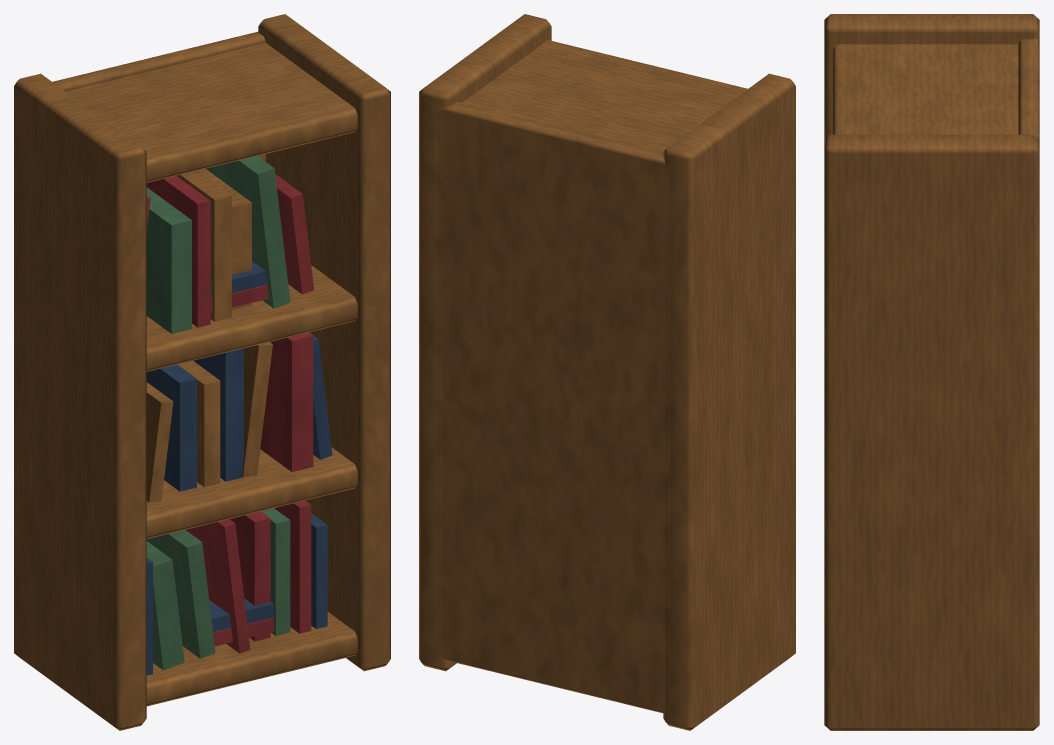
Rendered from Furn_DecorBookshelf.fbx.
3 renders of one model, left to right at view 1: azimuth 30°, elevation 25°; view 2: azimuth 150°, elevation 25°; view 3: azimuth 270°, elevation 25°, orthographic.
Parts seen in each view (by area): view 1: Furn_DecorBookshelf_Mesh; view 2: Furn_DecorBookshelf_Mesh; view 3: Furn_DecorBookshelf_Mesh.
Boxes of the visible parts, x1=… form: Furn_DecorBookshelf_Mesh: x1=14, y1=14, x2=390, y2=730; Furn_DecorBookshelf_Mesh: x1=419, y1=14, x2=795, y2=730; Furn_DecorBookshelf_Mesh: x1=824, y1=14, x2=1039, y2=730.
Size of the model in its own units: 0.6 by 1.2 by 0.4.
Materials: 4 (4 with a texture image).
